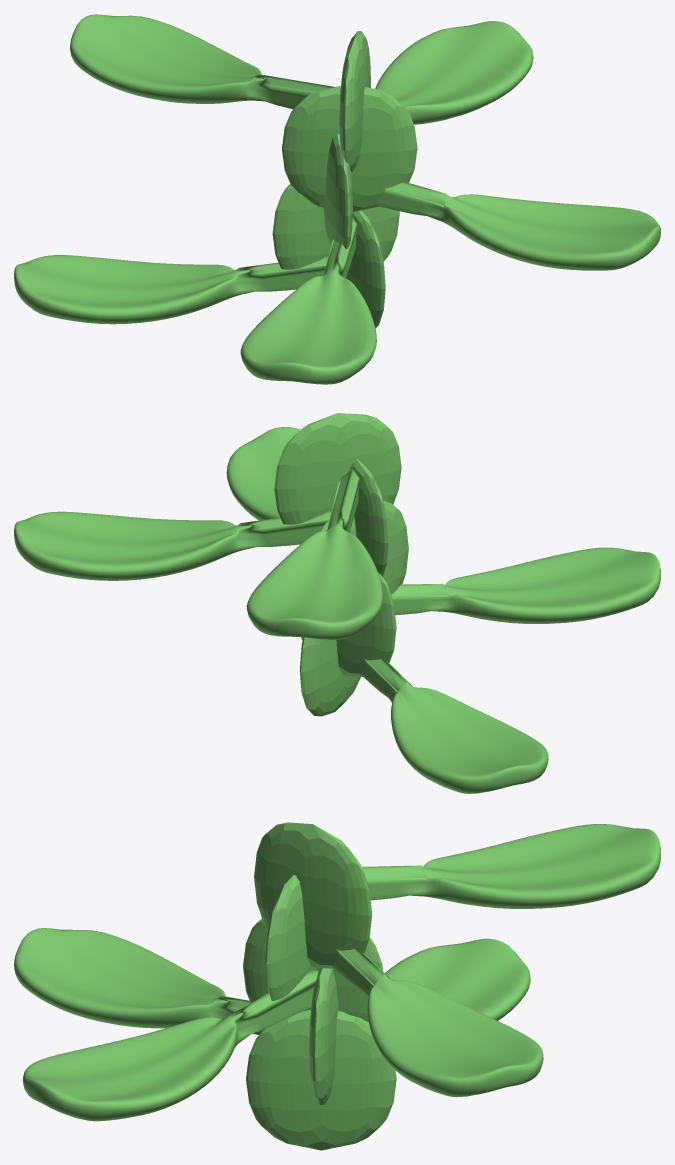
Rendered from Plant3_Small.fbx.
3 renders of one model, top to bottom at view 1: azimuth 30°, elevation 25°; view 2: azimuth 150°, elevation 25°; view 3: azimuth 270°, elevation 25°, orthographic. The views are drawn at different scales.
Visible parts, largest first — view 1: Circle; view 2: Circle; view 3: Circle.
Boxes of the visible parts, <box> form: Circle: <box>14,14,660,384</box>; Circle: <box>14,413,660,793</box>; Circle: <box>14,822,660,1150</box>.
Size of the model in its own units: 734 by 406 by 728.
